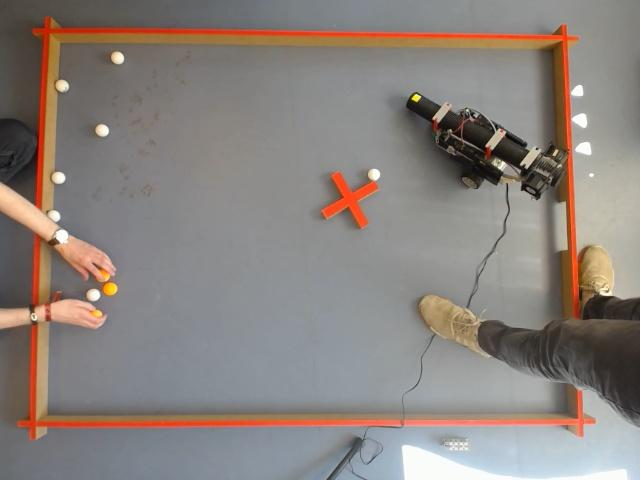orange: (102, 281, 120, 298)
robot: (406, 92, 568, 200)
robot-front: (407, 92, 437, 120)
white: (108, 50, 126, 69), (92, 122, 111, 140), (50, 170, 68, 186), (85, 287, 101, 304), (48, 208, 61, 222), (56, 80, 69, 93), (369, 168, 380, 181)
